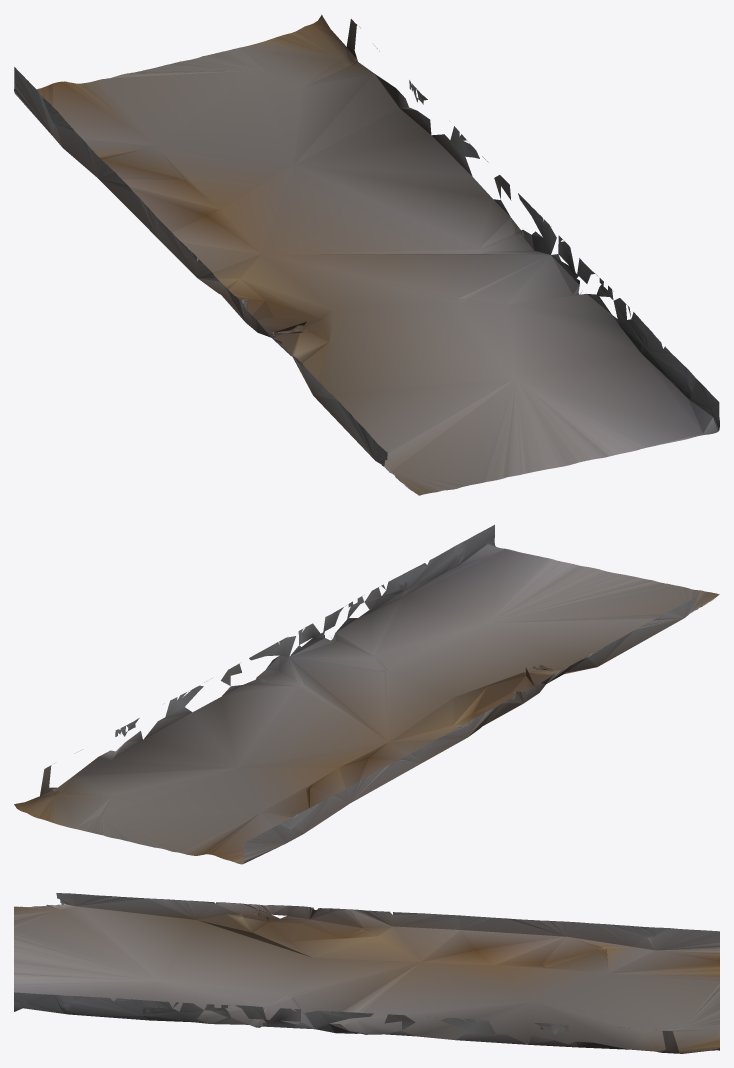
Rendered from coarse.glb.
The picture shows the model from 3 angles, top to bottom: view 1: azimuth 30°, elevation 25°; view 2: azimuth 150°, elevation 25°; view 3: azimuth 270°, elevation 25°; orthographic projection. The views are drawn at different scales.
Size of the model in its own units: 1.69 by 0.1422 by 3.6.
